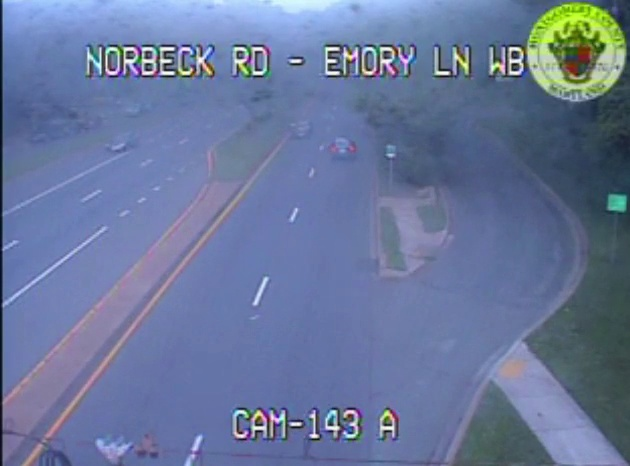car: (330, 138, 356, 159)
